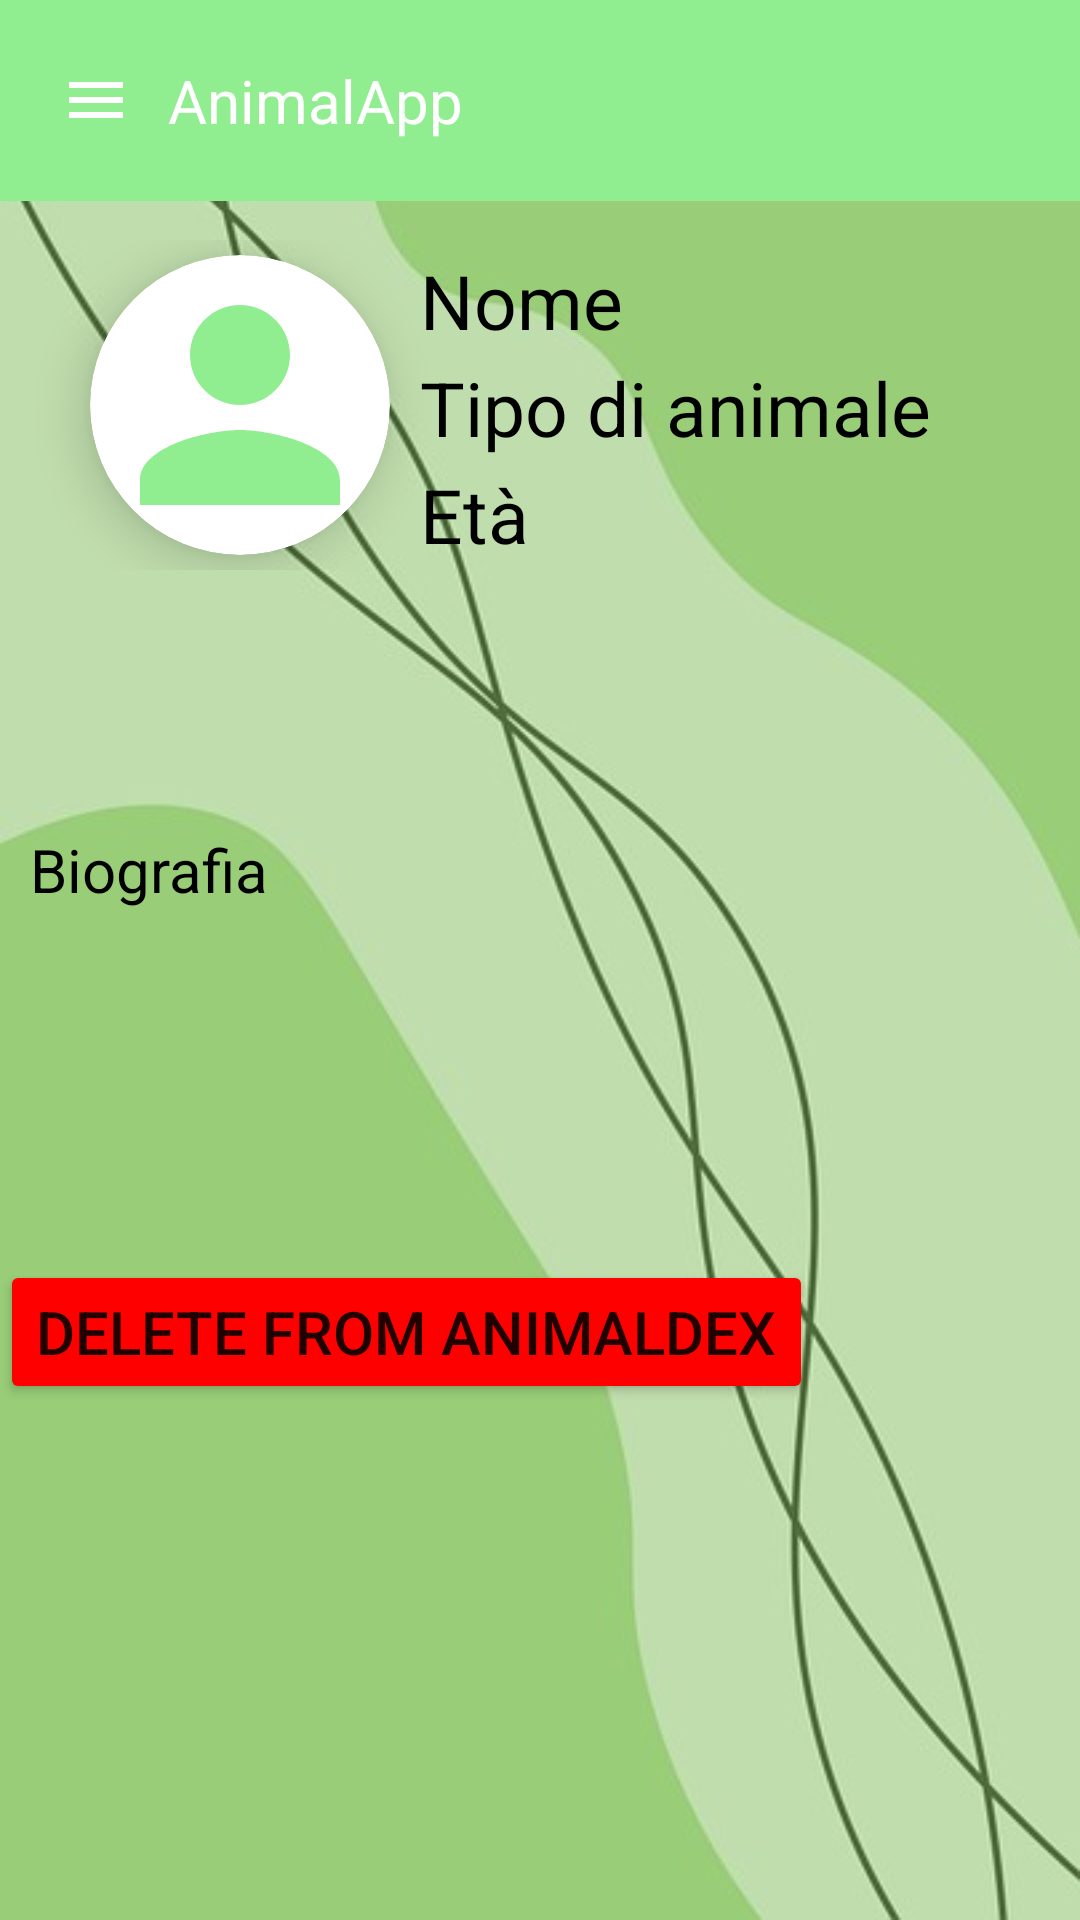

Icon bounding boxes for this 1080*1920 phone screenshot, format (x1, y1, x2, y2):
menu: (69, 82, 123, 118)
person: (90, 255, 390, 555)
